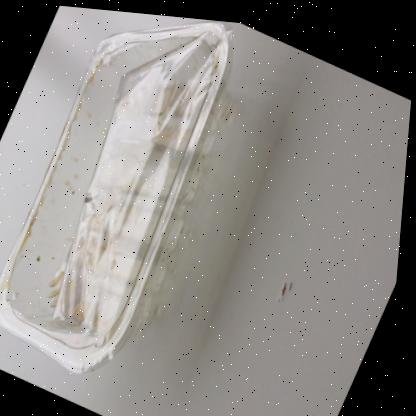Plastic: (0, 16, 234, 370), (2, 16, 234, 370)
